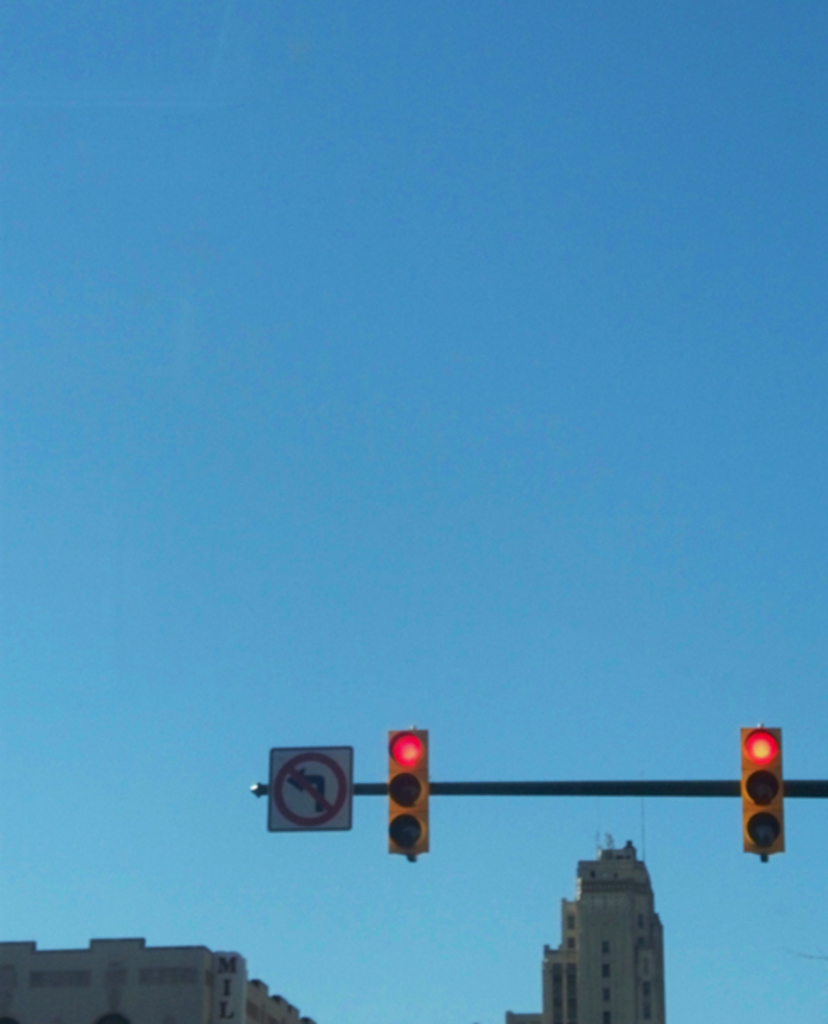red_light: (742, 728, 783, 851), (391, 733, 428, 851)
